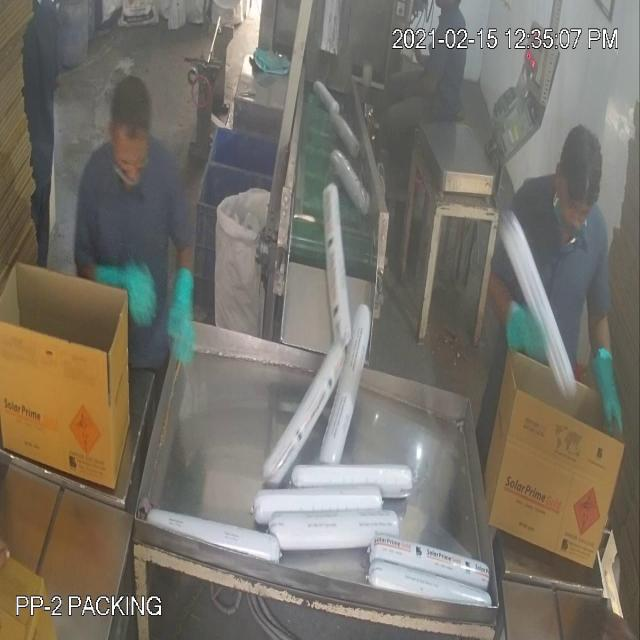gloves: (583, 326, 629, 454), (170, 252, 202, 380)
